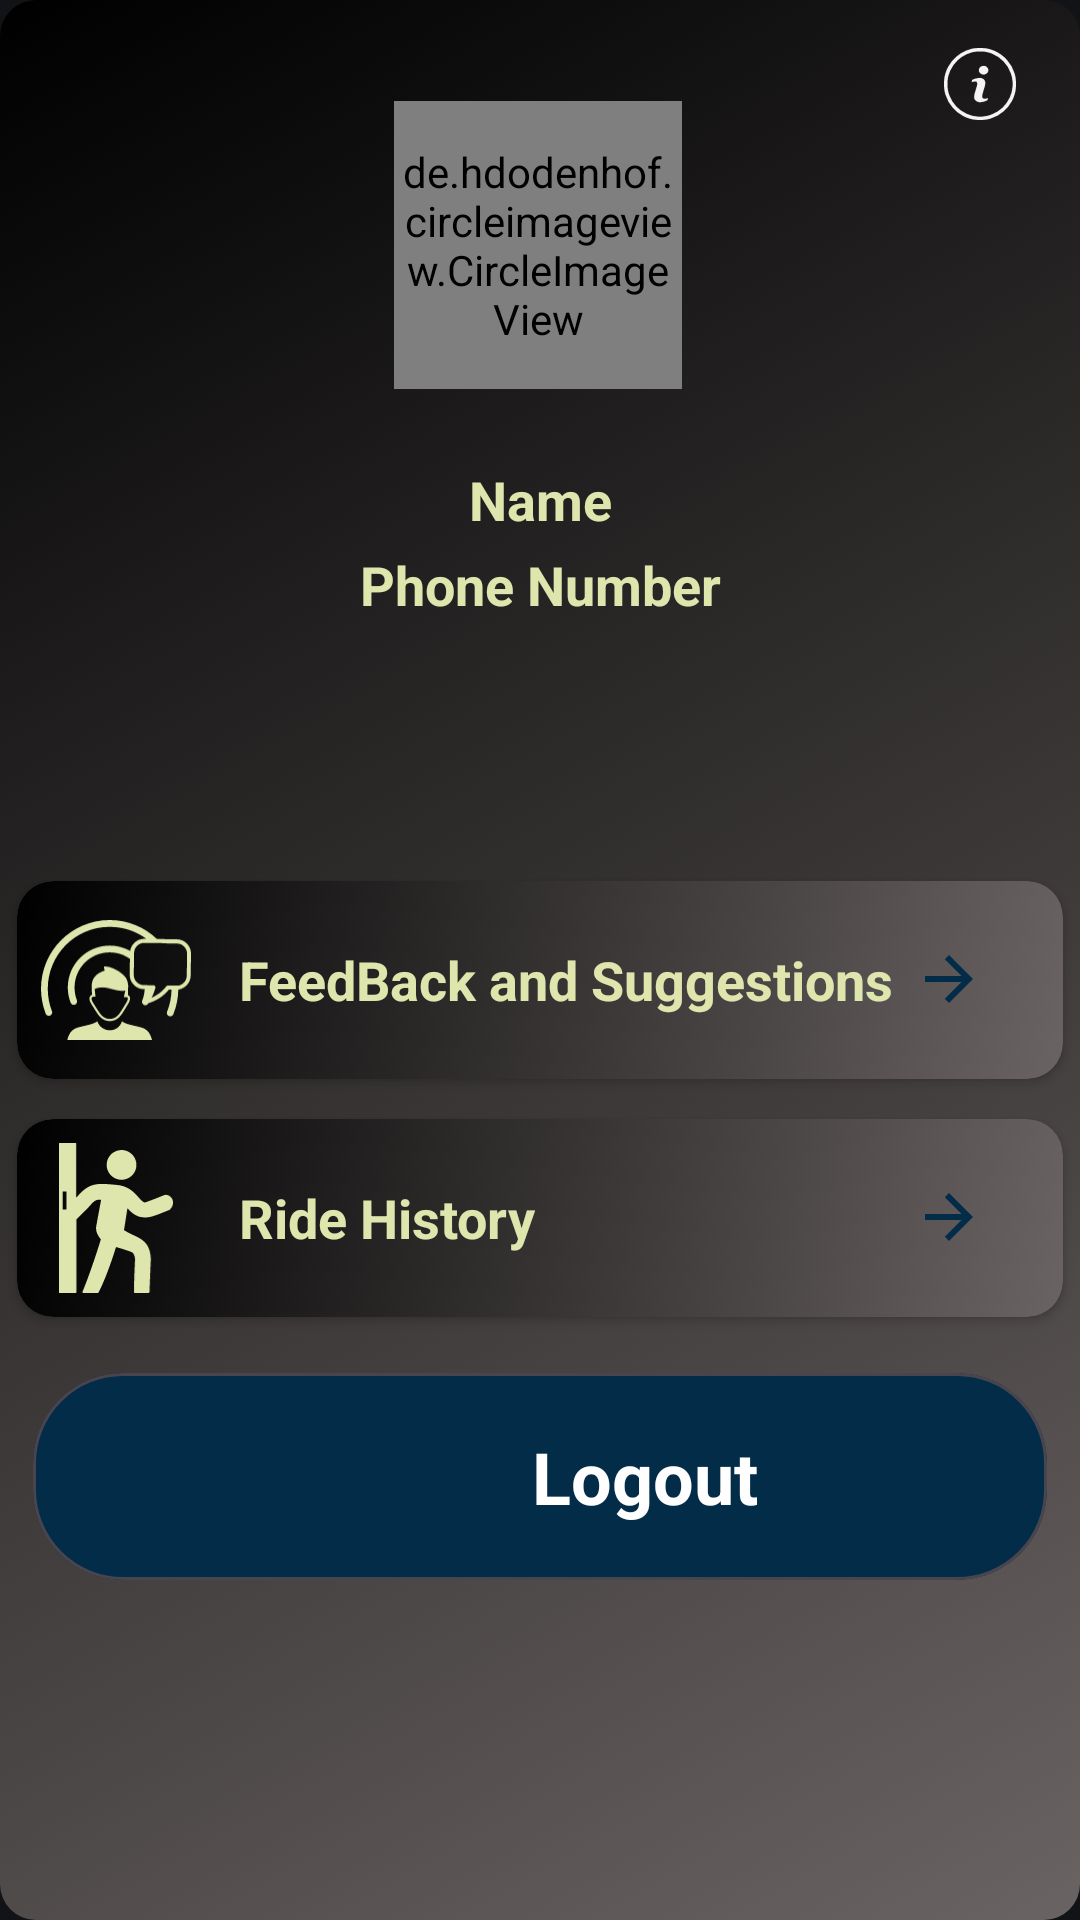

Icon bounding boxes for this 1080px x 1920px phone screenshot, format (x1, y1, x2, y2):
aboutus: (944, 48, 1016, 120)
complaints: (41, 920, 191, 1040)
leave: (59, 1143, 191, 1293)
